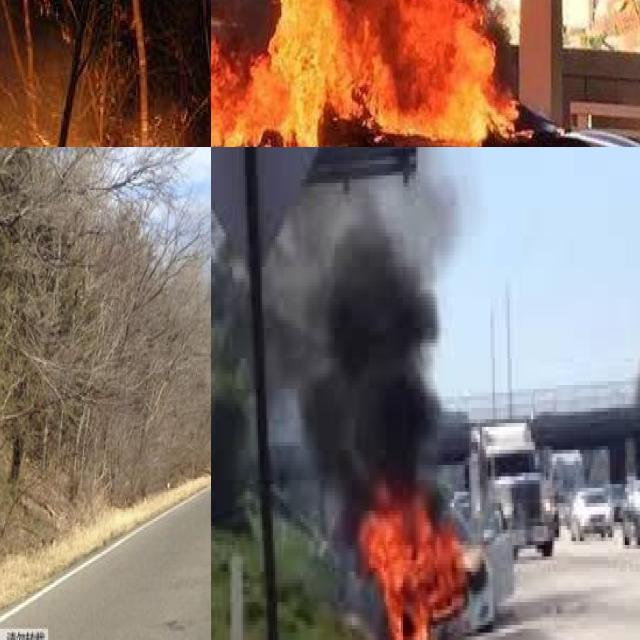fire: (211, 0, 540, 147), (347, 472, 469, 640)
smoke: (260, 179, 454, 492)
